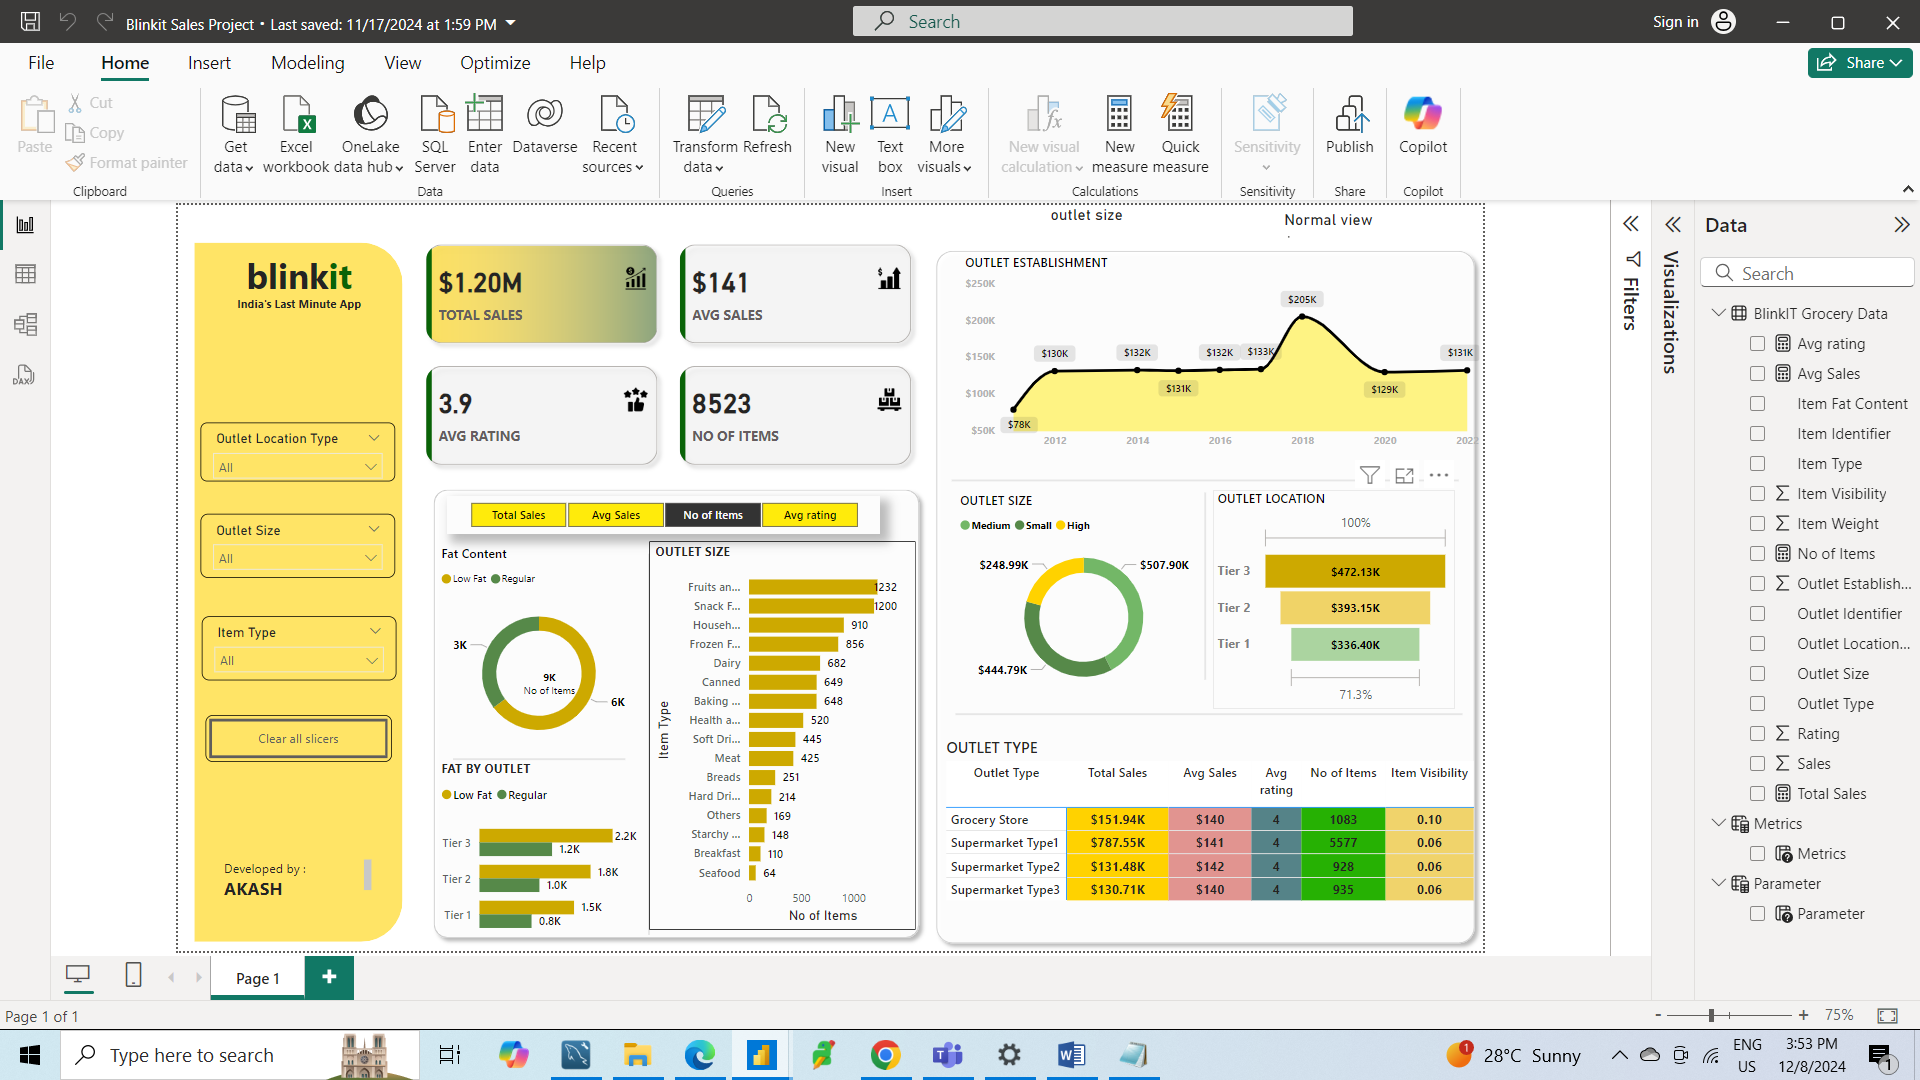

The page's visual inventory and layout, read from the dashboard file:
{"tool":"powerbi","page":{"name":"Page 1","canvas":[1400,800],"ordinal":0},"visuals":[{"type":"shape","box":[17.2,39.7,223.5,750],"z":0},{"type":"textbox","box":[25.1,45,209,66.1],"z":1000},{"type":"textbox","box":[25.1,91.3,209,38.4],"z":2000},{"type":"cardVisual","fields":{"Data":["BlinkIT Grocery Data.Total Sales","BlinkIT Grocery Data.Avg Sales","BlinkIT Grocery Data.Avg rating","BlinkIT Grocery Data.No of Items"]},"box":[248.7,25.1,555.6,271.2],"z":3000},{"type":"shape","box":[265.9,296.3,538.4,498.7],"z":4000},{"type":"donutChart","title":"Fat Content","fields":{"Y":["BlinkIT Grocery Data.Total Sales"],"Category":["BlinkIT Grocery Data.Item Fat Content"]},"box":[277.8,365.1,219.6,230.2],"z":5000},{"type":"slicer","fields":{"Values":["Metrics.Metrics"]},"box":[288.4,312.2,465,40],"z":6000},{"type":"cardVisual","fields":{"Data":["BlinkIT Grocery Data.Total Sales"]},"box":[333.3,480.2,129.6,66.1],"z":7000},{"type":"clusteredBarChart","title":"FAT BY OUTLET","fields":{"Y":["BlinkIT Grocery Data.Total Sales"],"Category":["BlinkIT Grocery Data.Outlet Location Type"],"Series":["BlinkIT Grocery Data.Item Fat Content"]},"box":[277.8,595.2,219.6,202.4],"z":8000},{"type":"shape","box":[295,578,185.2,33.1],"z":9000},{"type":"shape","box":[484.1,374.3,42.3,408.7],"z":10000},{"type":"clusteredBarChart","title":"OUTLET SIZE","fields":{"Y":["BlinkIT Grocery Data.Total Sales"],"Category":["BlinkIT Grocery Data.Item Type"]},"box":[505.3,361.1,285.7,416.7],"z":11000},{"type":"shape","box":[804.2,39.7,595.2,760.6],"z":12000},{"type":"lineChart","title":"OUTLET ESTABLISHMENT","fields":{"Y":["Sum(BlinkIT Grocery Data.Sales)"],"Category":["BlinkIT Grocery Data.Outlet Establishment Year"]},"box":[820.1,60.8,562.2,216.9],"z":13000},{"type":"shape","box":[829.4,279.1,543.7,33.1],"z":14000},{"type":"donutChart","title":"OUTLET SIZE","fields":{"Y":["BlinkIT Grocery Data.Total Sales"],"Category":["BlinkIT Grocery Data.Outlet Size"]},"box":[833.9,315.6,275.1,224.9],"z":15000},{"type":"shape","box":[1080.7,308.2,42.3,201.1],"z":16000},{"type":"funnel","title":"OUTLET LOCATION","fields":{"Y":["BlinkIT Grocery Data.Total Sales"],"Category":["BlinkIT Grocery Data.Outlet Location Type"]},"box":[1110.3,305,259.3,235.5],"z":17000},{"type":"shape","box":[833.3,529.1,543.7,33.1],"z":18000},{"type":"pivotTable","title":"OUTLET TYPE","fields":{"Rows":["BlinkIT Grocery Data.Outlet Type"],"Values":["BlinkIT Grocery Data.Total Sales","BlinkIT Grocery Data.Avg Sales","BlinkIT Grocery Data.Avg rating","BlinkIT Grocery Data.No of Items","Avg(BlinkIT Grocery Data.Item Visibility)"]},"box":[818.8,570.1,580.7,213],"z":19000},{"type":"slicer","fields":{"Values":["BlinkIT Grocery Data.Outlet Location Type"]},"box":[23.8,232.8,209,63.5],"z":20000},{"type":"slicer","fields":{"Values":["BlinkIT Grocery Data.Outlet Size"]},"box":[23.8,330.7,209,68.8],"z":20001},{"type":"slicer","fields":{"Values":["BlinkIT Grocery Data.Item Type"]},"box":[25.1,440.5,209,68.8],"z":20002},{"type":"textbox","box":[43.7,697.1,168,56.9],"z":20003},{"type":"actionButton","box":[29.1,546.3,199.7,50.3],"z":20004}]}

Visuals, with their boxes on the page's 1400x800 design canvas (x1, y1, x2, y2). These are canvas units, not pixel positions in the 1920x1080 screenshot, which may show the page scaled, cropped or inside an application window:
shape: <region>17, 40, 241, 790</region>
textbox: <region>25, 45, 234, 111</region>
textbox: <region>25, 91, 234, 130</region>
cardVisual - BlinkIT Grocery Data.Total Sales x BlinkIT Grocery Data.Avg Sales: <region>249, 25, 804, 296</region>
shape: <region>266, 296, 804, 795</region>
"Fat Content" donutChart: <region>278, 365, 497, 595</region>
slicer - Metrics.Metrics: <region>288, 312, 753, 352</region>
cardVisual - BlinkIT Grocery Data.Total Sales: <region>333, 480, 463, 546</region>
"FAT BY OUTLET" clusteredBarChart: <region>278, 595, 497, 798</region>
shape: <region>295, 578, 480, 611</region>
shape: <region>484, 374, 526, 783</region>
"OUTLET SIZE" clusteredBarChart: <region>505, 361, 791, 778</region>
shape: <region>804, 40, 1399, 800</region>
"OUTLET ESTABLISHMENT" lineChart: <region>820, 61, 1382, 278</region>
shape: <region>829, 279, 1373, 312</region>
"OUTLET SIZE" donutChart: <region>834, 316, 1109, 540</region>
shape: <region>1081, 308, 1123, 509</region>
"OUTLET LOCATION" funnel: <region>1110, 305, 1370, 540</region>
shape: <region>833, 529, 1377, 562</region>
"OUTLET TYPE" pivotTable: <region>819, 570, 1400, 783</region>
slicer - BlinkIT Grocery Data.Outlet Location Type: <region>24, 233, 233, 296</region>
slicer - BlinkIT Grocery Data.Outlet Size: <region>24, 331, 233, 400</region>
slicer - BlinkIT Grocery Data.Item Type: <region>25, 440, 234, 509</region>
textbox: <region>44, 697, 212, 754</region>
actionButton: <region>29, 546, 229, 597</region>
